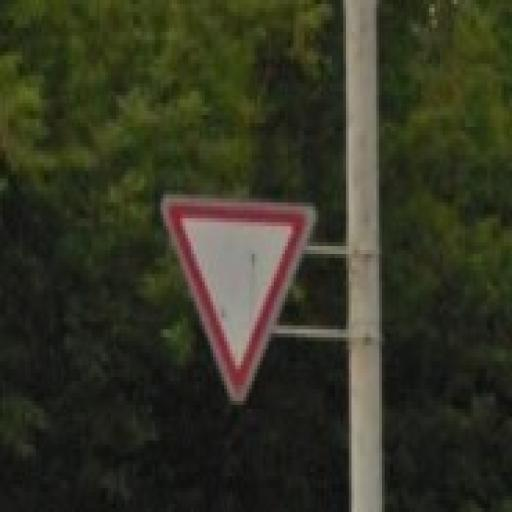traffic_sign: (162, 191, 320, 406)
